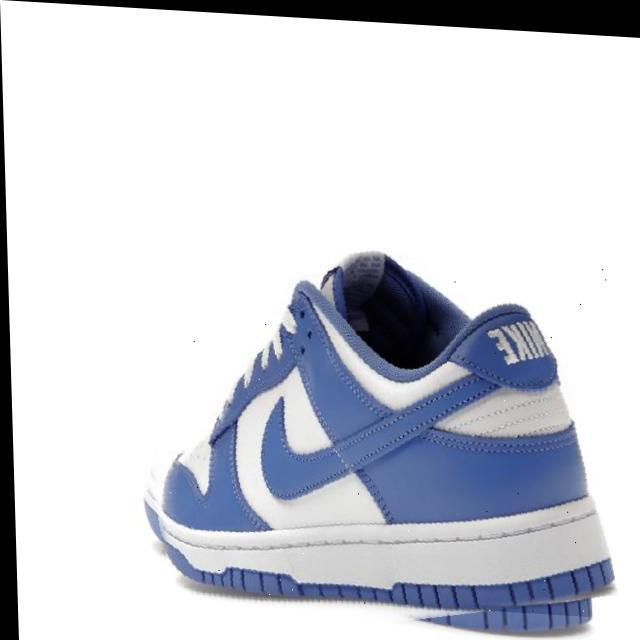J1_InsoleChar: (5, 3, 635, 637)
J1_MateComp: (142, 249, 616, 633)
J1_StitchPattern: (184, 287, 573, 511), (143, 493, 616, 629), (257, 375, 572, 501), (185, 555, 616, 629), (144, 495, 604, 555), (416, 597, 594, 633), (485, 316, 551, 367)
